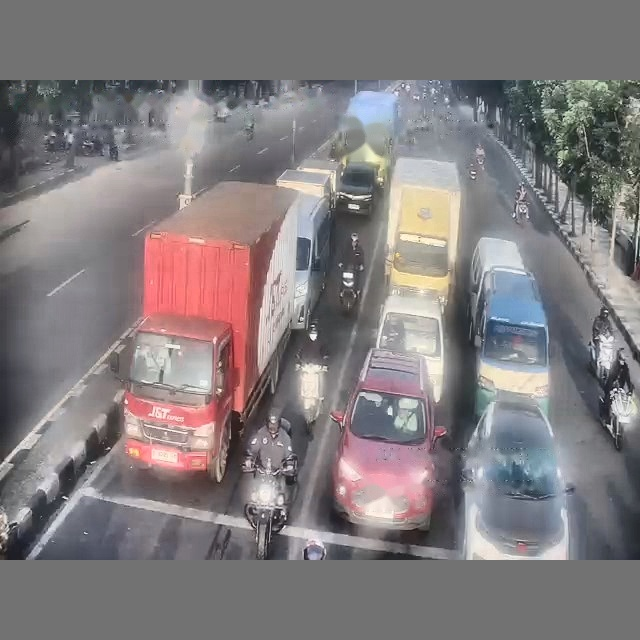Mobil: (330, 348, 446, 530), (461, 397, 574, 559)
Motor: (243, 455, 296, 559), (296, 362, 327, 434), (600, 388, 635, 450), (588, 333, 614, 386), (339, 263, 362, 313), (515, 201, 529, 225), (244, 125, 255, 141), (109, 144, 118, 161)
Truk: (110, 181, 300, 482), (385, 157, 460, 307), (334, 91, 399, 187)
